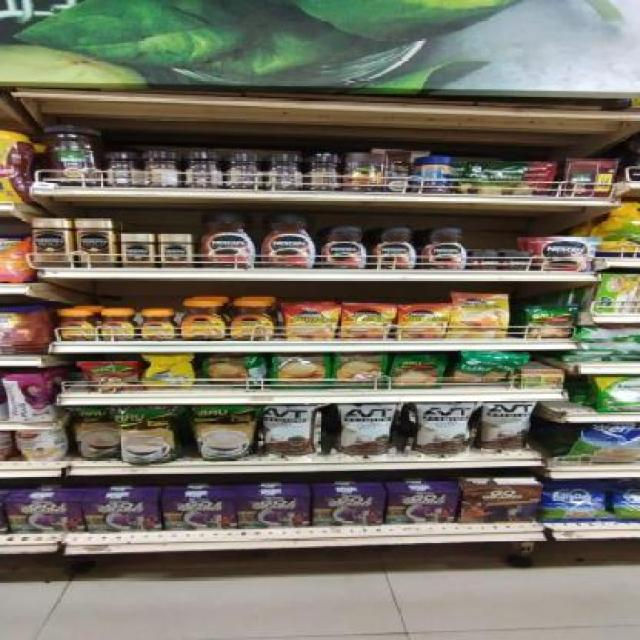Coffee: (198, 212, 256, 268), (260, 213, 317, 269), (450, 293, 507, 339), (534, 236, 592, 272), (371, 226, 417, 269), (420, 227, 466, 270), (322, 226, 367, 268), (179, 298, 224, 339), (284, 304, 336, 339), (231, 298, 275, 339), (33, 218, 69, 268), (398, 304, 449, 339), (340, 304, 391, 338), (78, 219, 114, 267), (57, 310, 95, 339), (100, 309, 135, 340), (159, 235, 192, 267), (122, 234, 152, 268), (140, 311, 173, 340), (470, 250, 500, 270), (505, 251, 532, 269)
